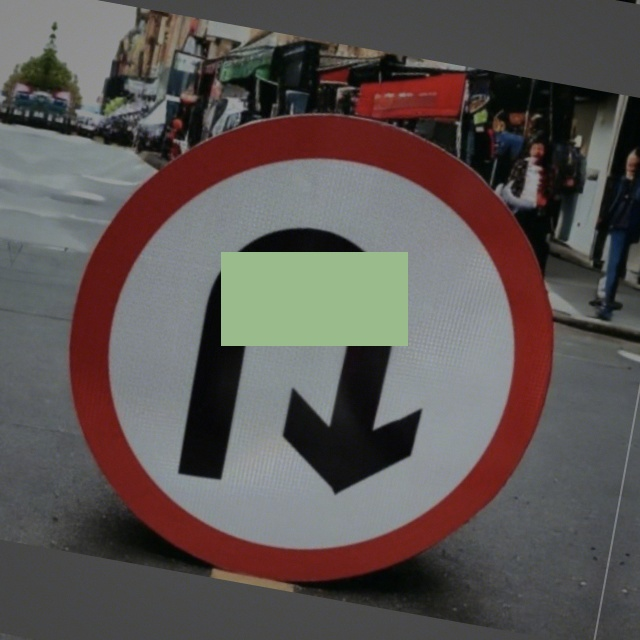U_Turn_Ahead: (95, 139, 550, 577)
